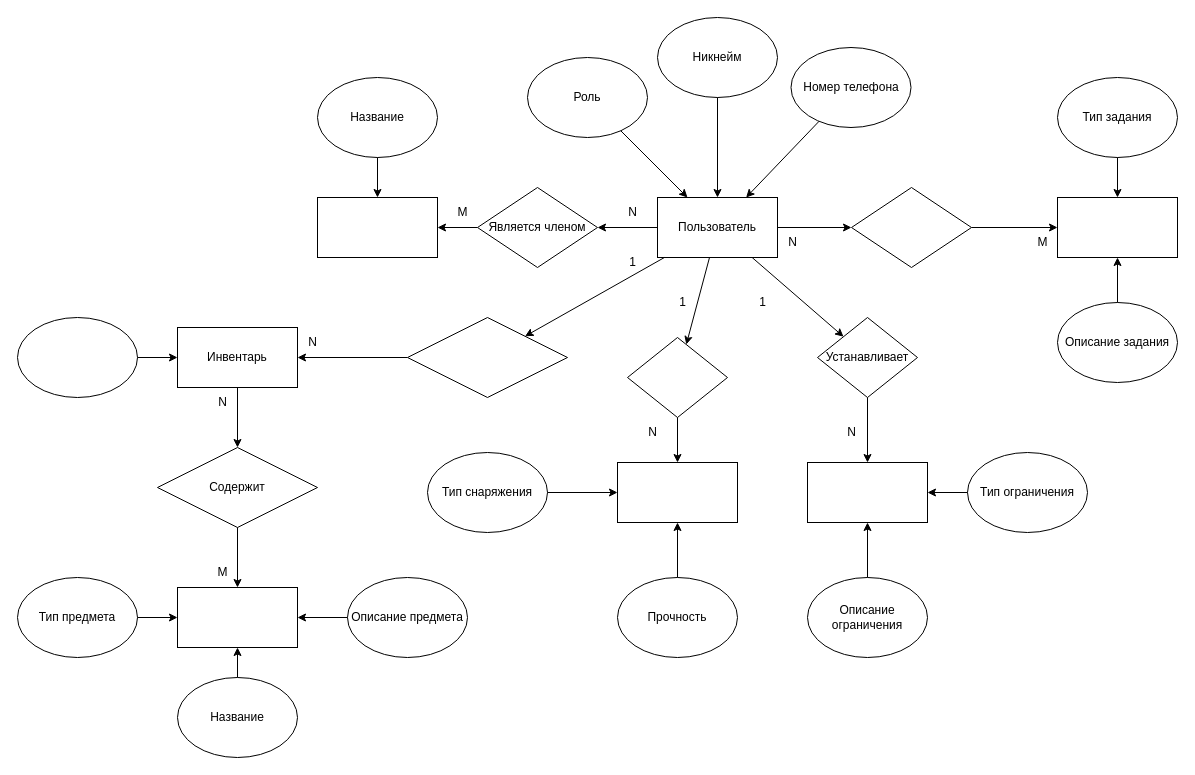
This 1195x775 diagram has some shape labels left out. Here are the shapes that lost their labels. From the top down, the box of each, then its label:
(316, 196, 438, 258): Семья
(850, 186, 972, 268): Принимает
(1056, 196, 1178, 258): Задание
(16, 316, 138, 398): Количество
(406, 316, 568, 398): Хранит предметы в
(626, 336, 728, 418): Экипирует героя в
(616, 462, 738, 522): Снаряжение
(806, 462, 928, 522): Медицинское ограничение
(176, 586, 298, 648): Предмет
